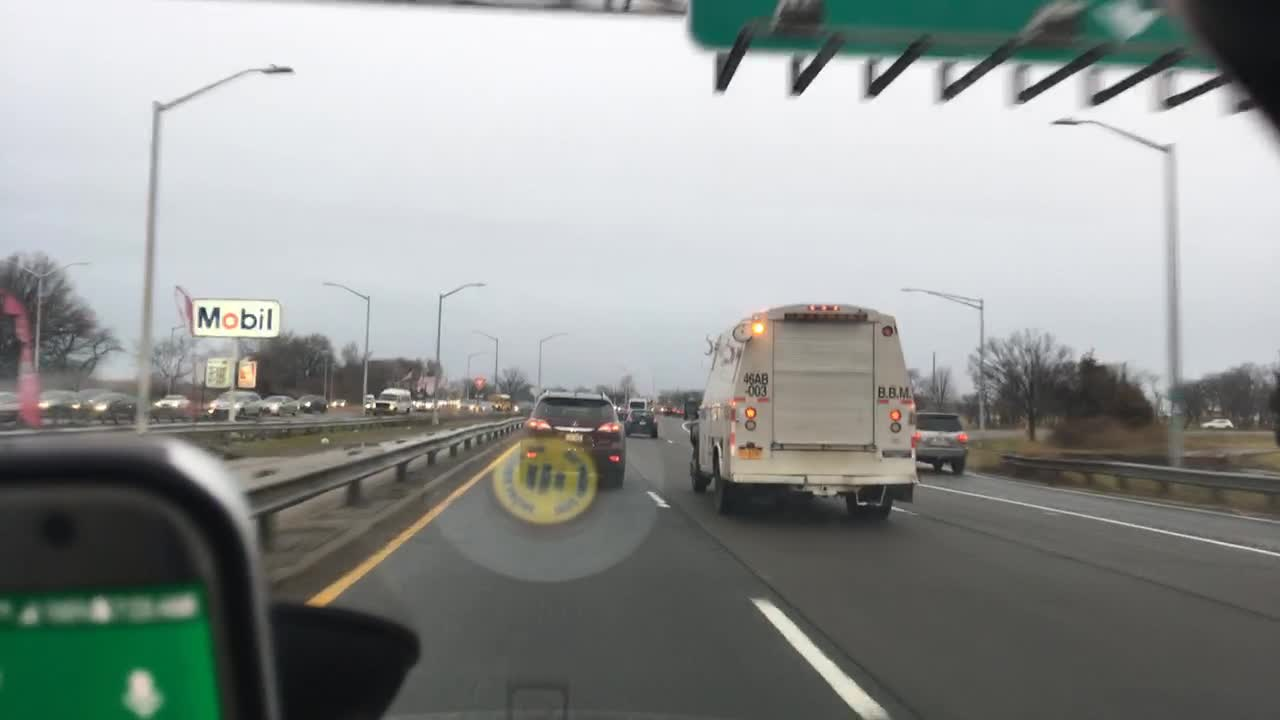bus: (491, 392, 511, 409)
car: (687, 301, 914, 521), (517, 389, 626, 484), (909, 408, 965, 476), (206, 388, 260, 415), (36, 386, 85, 409), (623, 408, 659, 437), (92, 389, 138, 411), (255, 390, 297, 414), (374, 387, 411, 412), (1, 386, 34, 411), (297, 391, 331, 413), (1196, 415, 1234, 430), (152, 395, 192, 409), (76, 386, 105, 404), (412, 398, 436, 411), (462, 400, 490, 410), (361, 393, 375, 412), (627, 396, 647, 409), (612, 405, 629, 420), (665, 403, 683, 416), (437, 398, 459, 408), (654, 403, 671, 414), (331, 397, 344, 408)
traffic sign: (690, 0, 1212, 64), (206, 356, 255, 390), (473, 377, 487, 390)
